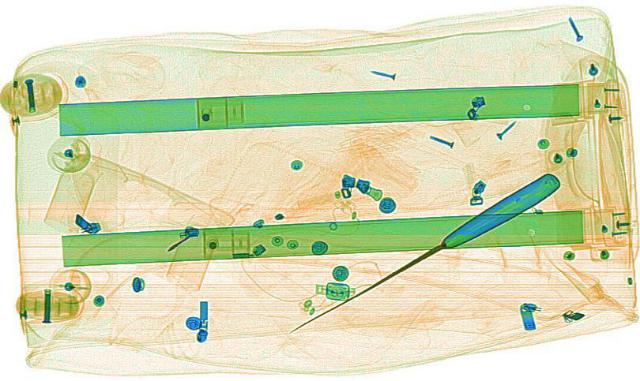Knife: (279, 171, 571, 338)
